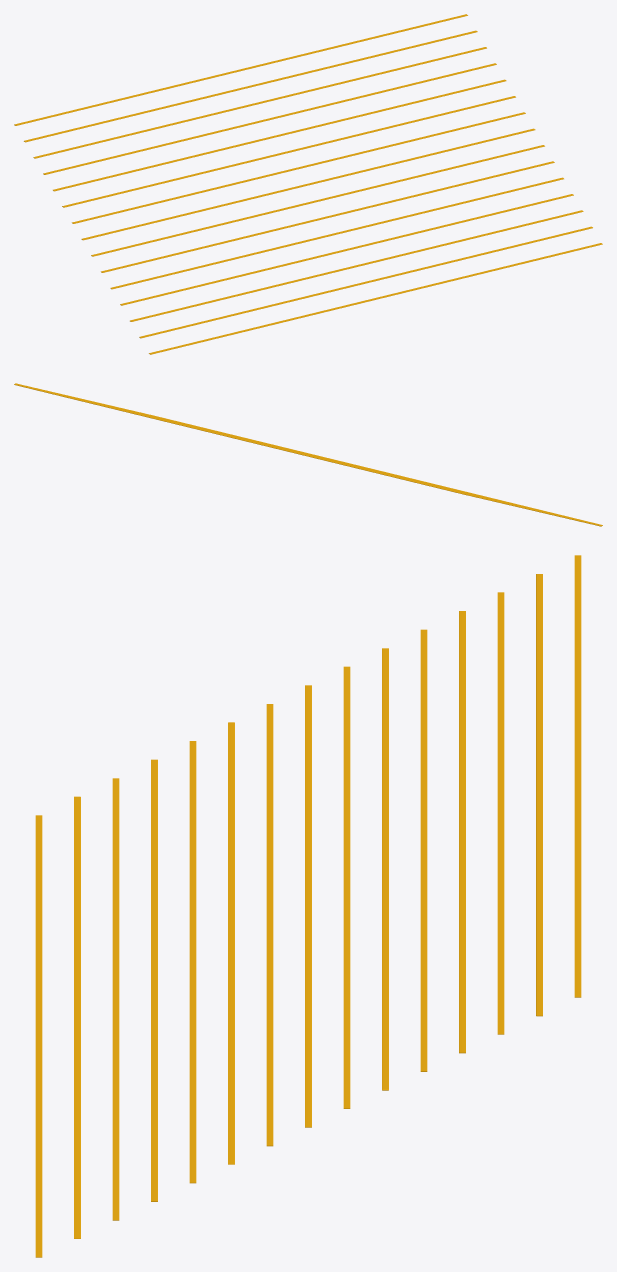
File: gteki_ik_stair_n15_r164_t308_w8376_nosing.glb
The picture shows the model from 3 angles, top to bottom: view 1: azimuth 30°, elevation 25°; view 2: azimuth 150°, elevation 25°; view 3: azimuth 270°, elevation 25°; orthographic projection. The views are drawn at different scales.
Parts seen in each view (by area): view 1: VIS_nosings; view 2: VIS_nosings; view 3: VIS_nosings.
Boxes of the visible parts, x1=… form: VIS_nosings: x1=14, y1=14, x2=602, y2=354; VIS_nosings: x1=14, y1=383, x2=602, y2=526; VIS_nosings: x1=35, y1=555, x2=581, y2=1257.
Bounding box in the file's own units: 8.36 × 2.3 × 4.37.
